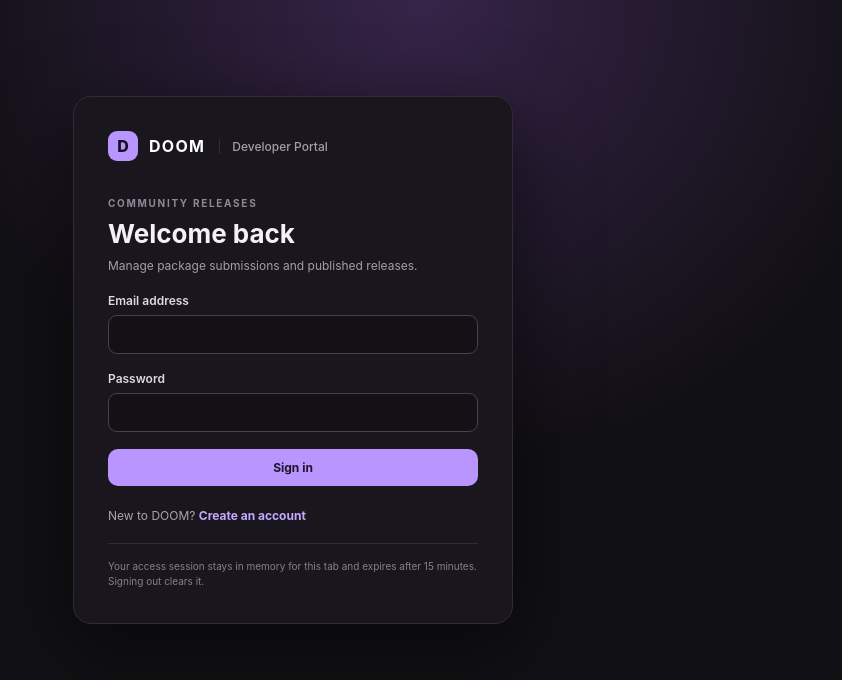
Test case: developer portal › renders login error from the backend and supports registration mode
The width and height of the screenshot is (842, 680).
Type "bad@example.test" into the field labelled "Email address" at (293,334), box [108,315,478,354]
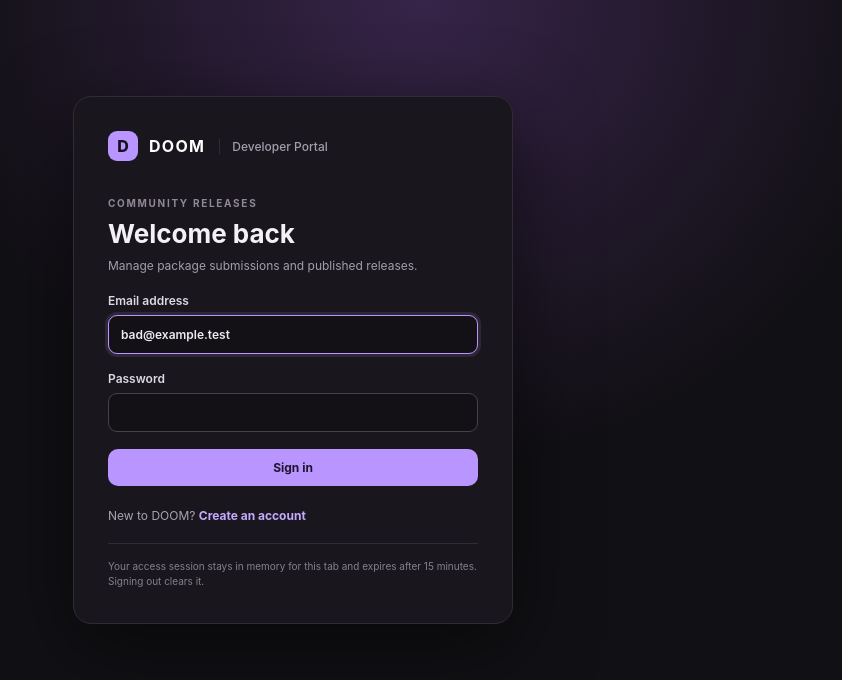
Type "wrong" into the password field labelled "Password" at (293,412), box [108,393,478,432]
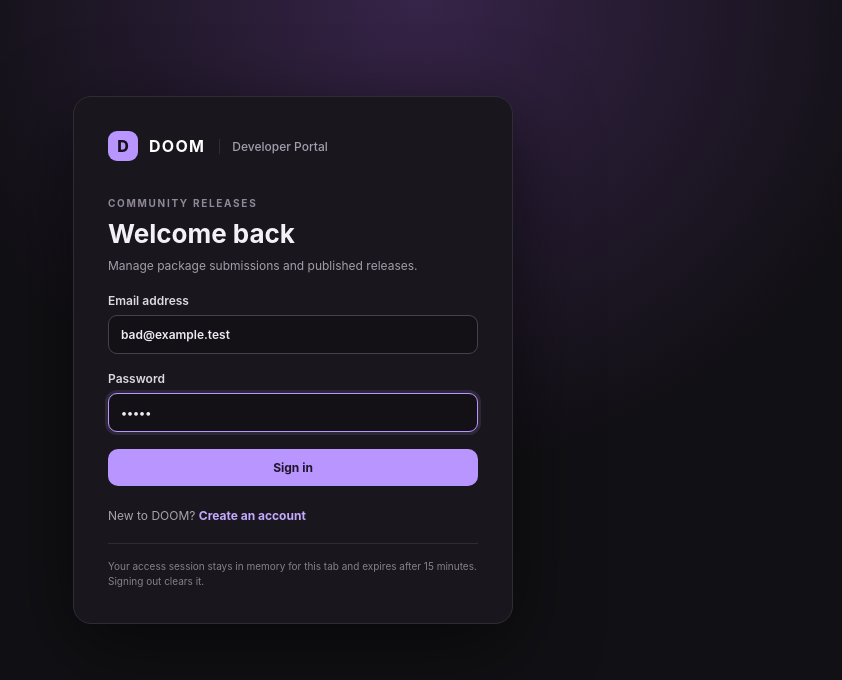
Click the button "Sign in" at (293,468), box [108,449,478,486]
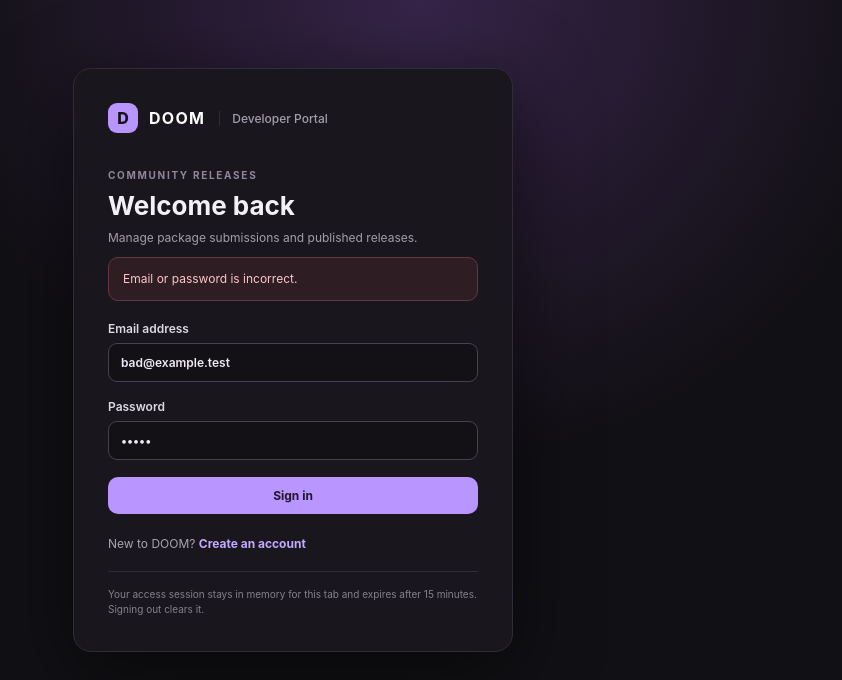
Result: the message reads "Email or password is incorrect." at [123,271,297,286]
Click the button "Create an account" at (252,544), box [199,536,306,551]
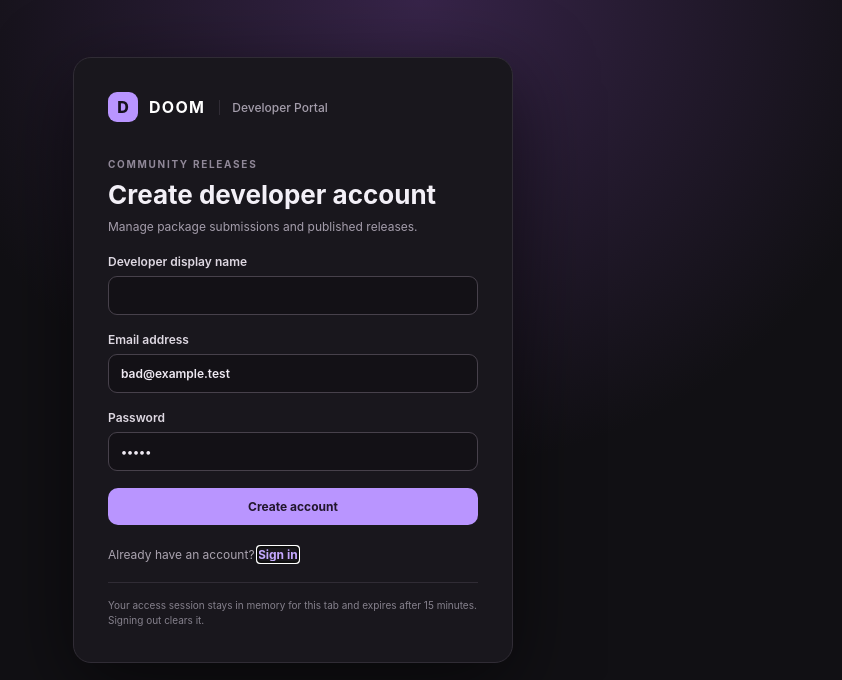
Result: the heading "Create developer account" is shown at [108,179,478,210]
Result: the field labelled "Developer display name" is shown at [108,276,478,315]
